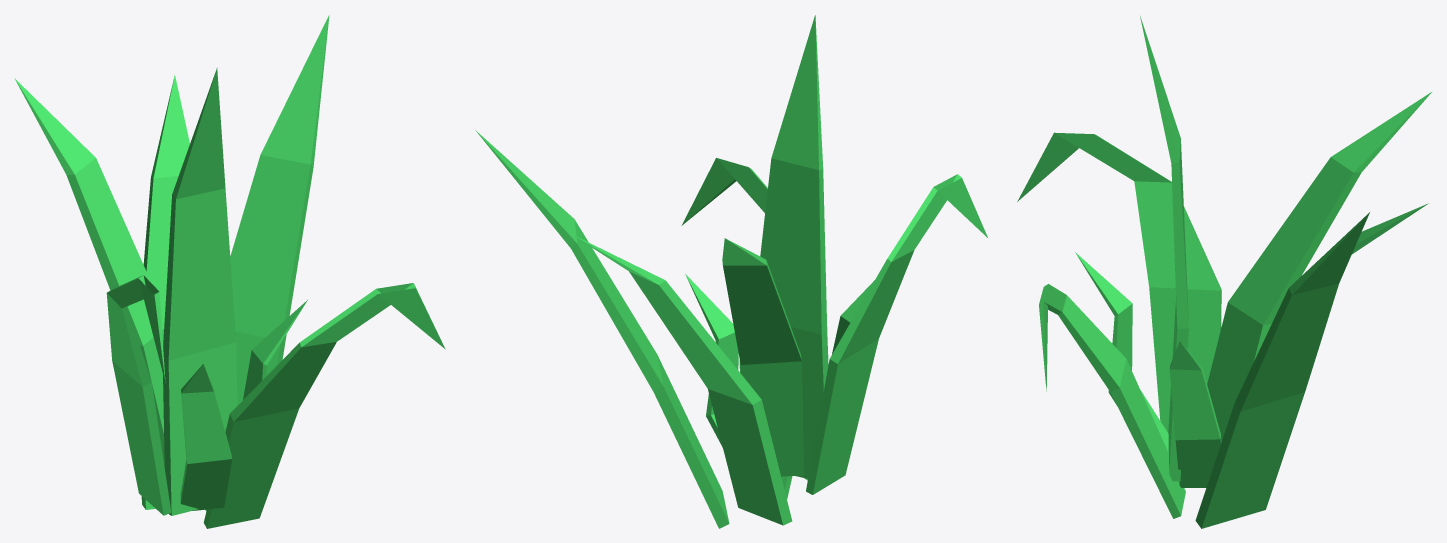
The model's file is grass.fbx.
The picture shows the model from 3 angles, left to right: view 1: azimuth 30°, elevation 25°; view 2: azimuth 150°, elevation 25°; view 3: azimuth 270°, elevation 25°; orthographic projection.
Parts seen in each view (by area): view 1: Cube, Cube.006, Cube.007, Cube.004, Cube.002, Cube.005, Cube.001, Cube.003; view 2: Cube, Cube.001, Cube.002, Cube.004, Cube.006, Cube.007, Cube.003; view 3: Cube.006, Cube.004, Cube.002, Cube.007, Cube.003, Cube, Cube.005, Cube.001.
Part boxes in pixels (<box>): Cube: <box>163,67,237,515</box>; Cube.006: <box>230,15,329,405</box>; Cube.007: <box>203,283,445,528</box>; Cube.004: <box>14,78,164,466</box>; Cube.002: <box>106,275,171,515</box>; Cube.005: <box>180,364,232,510</box>; Cube.001: <box>141,75,189,509</box>; Cube.003: <box>205,300,307,510</box>; Cube: <box>760,15,828,478</box>; Cube.001: <box>570,233,792,525</box>; Cube.002: <box>806,174,987,494</box>; Cube.004: <box>722,238,804,476</box>; Cube.006: <box>475,130,729,528</box>; Cube.007: <box>681,158,792,499</box>; Cube.003: <box>685,274,738,447</box>; Cube.006: <box>1195,212,1369,528</box>; Cube.004: <box>1207,91,1432,441</box>; Cube.002: <box>1017,132,1221,432</box>; Cube.007: <box>1039,284,1185,518</box>; Cube.003: <box>1169,341,1221,487</box>; Cube: <box>1140,16,1188,481</box>; Cube.005: <box>1075,252,1168,452</box>; Cube.001: <box>1352,203,1428,254</box>.
Bounding box in the file's own units: 507 × 684 × 538.
